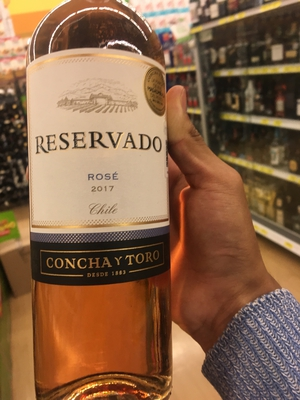reservado rose: (20, 16, 175, 400)
